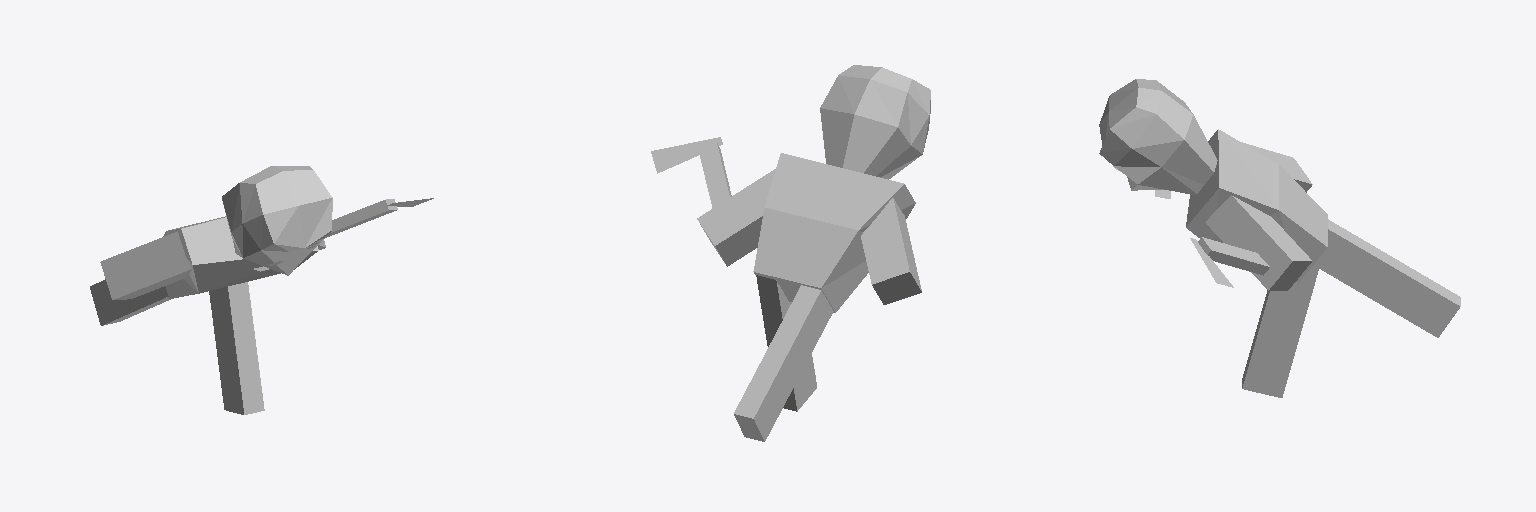
File: axeman2d.obj
3 views of the same model, side by side, from view 1: azimuth 30°, elevation 25°; view 2: azimuth 150°, elevation 25°; view 3: azimuth 270°, elevation 25° (orthographic).
Visible parts, largest first — view 1: Cube, Cube.005, Cube.001, Cube.003, Cube.004, Cube.007; view 2: Cube.001, Cube, Cube.004, Cube.003, Cube.002, Cube.005, Cube.007, Plane.001; view 3: Cube, Cube.001, Cube.004, Cube.005, Cube.002, Cube.007, Cube.003.
Boxes of the visible parts, <box> form: Cube: <box>222,166,332,275</box>; Cube.005: <box>209,282,264,414</box>; Cube.001: <box>163,216,318,298</box>; Cube.003: <box>100,231,191,299</box>; Cube.004: <box>90,279,170,325</box>; Cube.007: <box>324,199,397,238</box>; Cube.001: <box>753,153,915,312</box>; Cube: <box>820,65,930,179</box>; Cube.004: <box>734,285,833,441</box>; Cube.003: <box>861,198,921,304</box>; Cube.002: <box>697,169,775,266</box>; Cube.005: <box>756,275,816,411</box>; Cube.007: <box>698,142,731,208</box>; Plane.001: <box>651,137,722,173</box>; Cube: <box>1099,79,1217,194</box>; Cube.001: <box>1186,129,1327,282</box>; Cube.004: <box>1319,219,1460,337</box>; Cube.005: <box>1242,253,1323,397</box>; Cube.002: <box>1205,195,1311,290</box>; Cube.007: <box>1198,237,1269,275</box>; Cube.003: <box>1242,142,1312,192</box>.
Size of the model in its own units: 5.1 by 4.82 by 5.36.